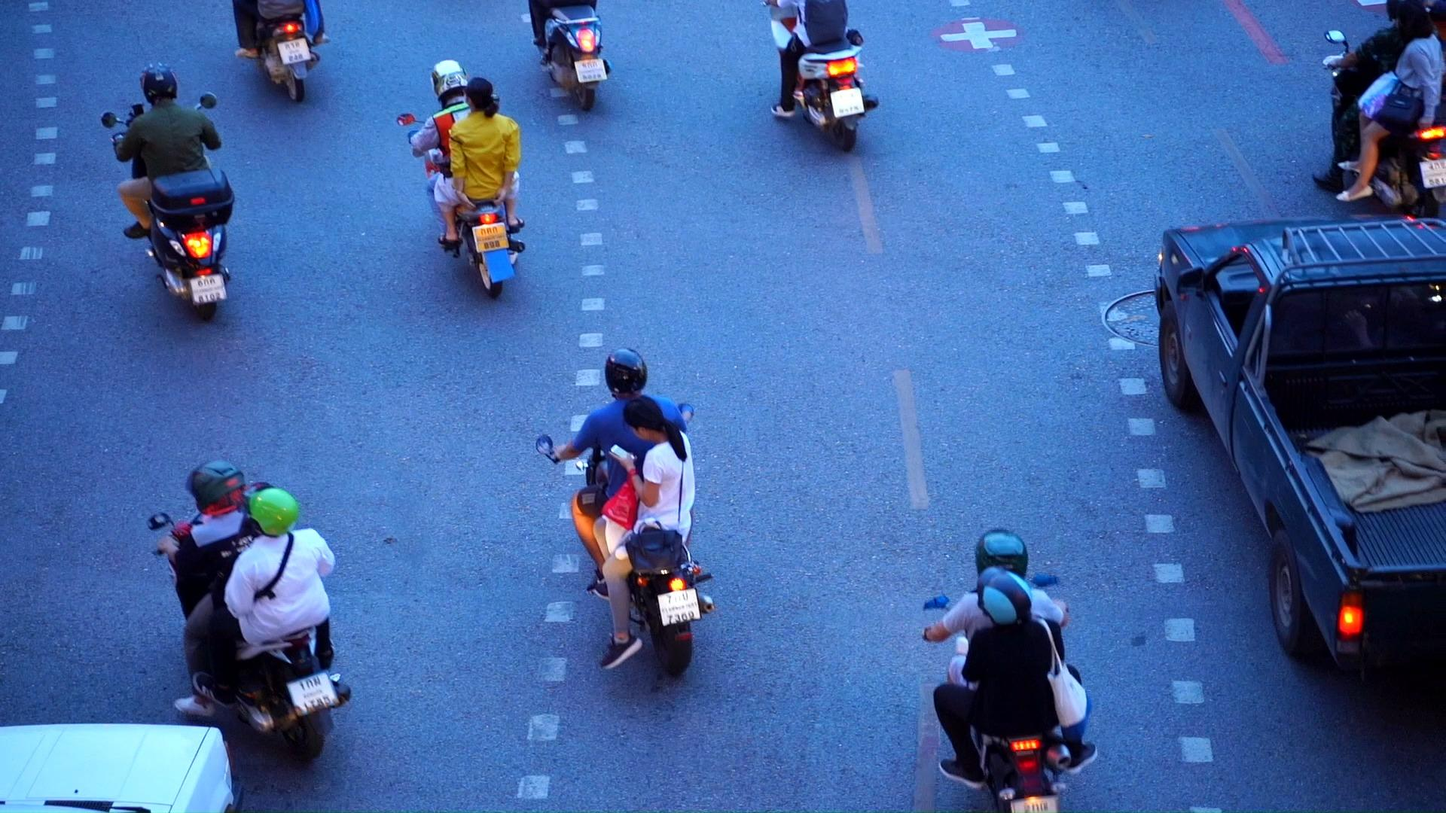driver: (146, 459, 352, 762), (536, 347, 717, 677), (918, 527, 1099, 813), (99, 62, 236, 322), (396, 58, 527, 298), (1312, 0, 1446, 217), (758, 0, 880, 152), (231, 0, 329, 104), (527, 0, 612, 113)
helmet: (976, 565, 1033, 629), (235, 482, 300, 538), (185, 459, 245, 515), (975, 528, 1029, 581), (604, 347, 648, 396), (430, 58, 468, 104), (139, 61, 177, 104)
no-helmet: (624, 394, 686, 443), (1396, 1, 1434, 48), (463, 77, 500, 119)
